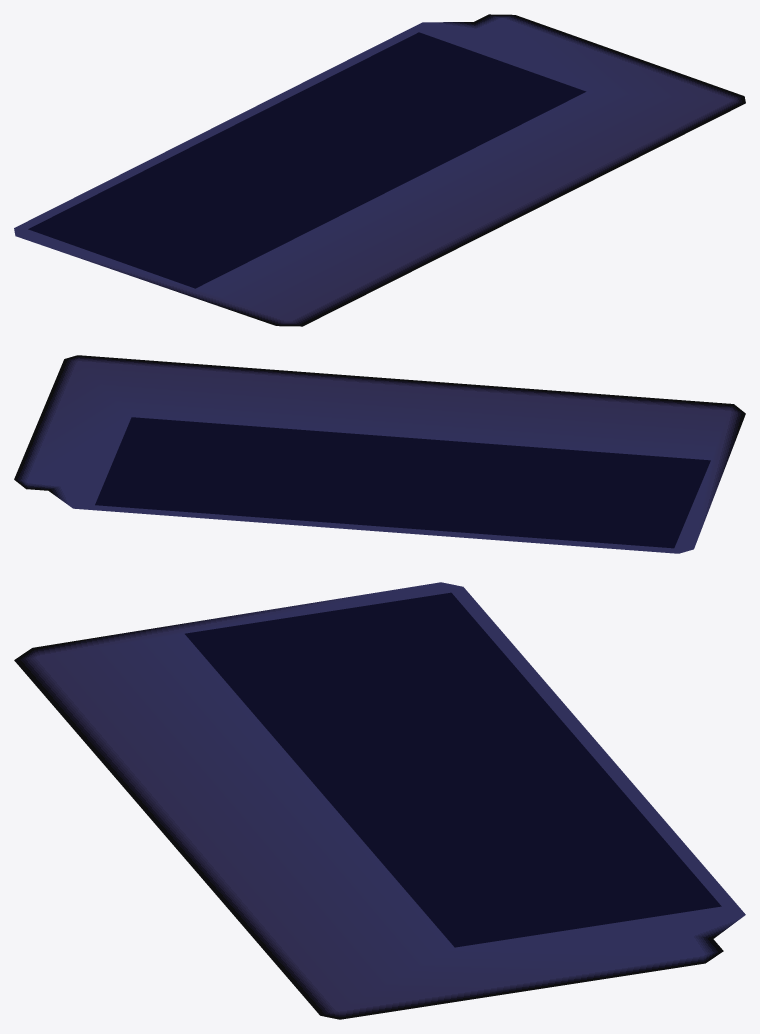
3 views of the same model, one above another, from view 1: azimuth 30°, elevation 25°; view 2: azimuth 150°, elevation 25°; view 3: azimuth 270°, elevation 25° (orthographic). The views are drawn at different scales.
Visible parts, largest first — view 1: Joint_0_Object_0; view 2: Joint_0_Object_0; view 3: Joint_0_Object_0.
Boxes of the visible parts, x1,y1,x2,y2 form: Joint_0_Object_0: (14, 14, 745, 326); Joint_0_Object_0: (14, 355, 745, 553); Joint_0_Object_0: (14, 582, 745, 1019).
Bounding box in the file's own units: 1166 × 0 × 824.
1 material, 1 textured.
